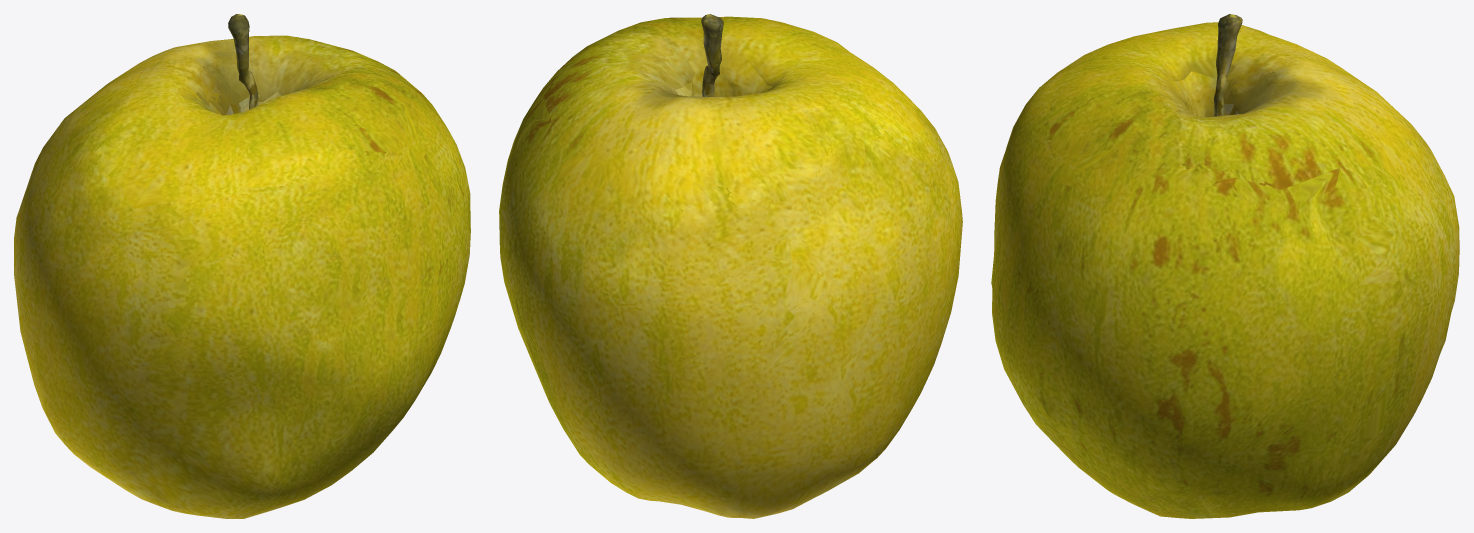
The model's file is Fruit-Apple-2.fbx.
3 views of the same model, side by side, from view 1: azimuth 30°, elevation 25°; view 2: azimuth 150°, elevation 25°; view 3: azimuth 270°, elevation 25° (orthographic). The views are drawn at different scales.
Parts seen in each view (by area): view 1: objapple; view 2: objapple; view 3: objapple.
Part boxes in pixels (bbox=[...]): objapple: bbox=[14, 14, 470, 518]; objapple: bbox=[499, 14, 962, 518]; objapple: bbox=[991, 14, 1459, 518].
Bounding box in the file's own units: 8.37 × 9.21 × 8.11.
Materials: 1 (1 with a texture image).
